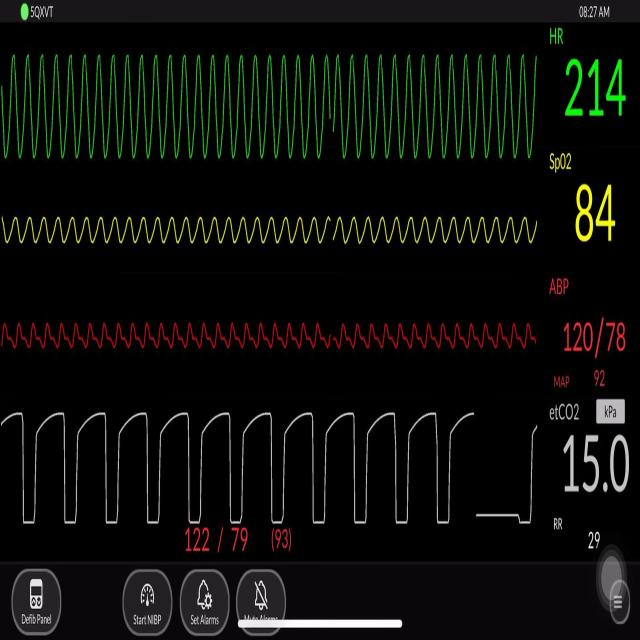danger: (5, 36, 542, 180)
